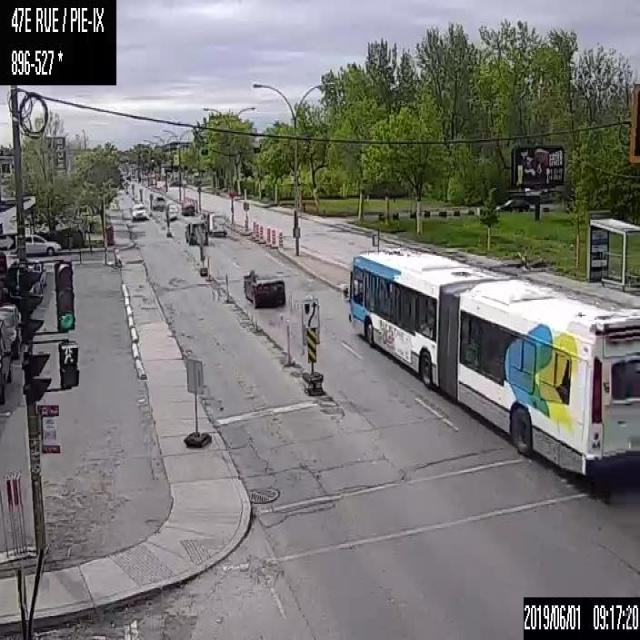bus: (341, 244, 639, 479)
construction: (286, 320, 289, 365), (206, 256, 210, 280), (225, 273, 228, 300), (252, 305, 255, 331), (278, 232, 283, 247), (271, 229, 275, 244), (255, 222, 258, 238), (259, 226, 263, 238), (252, 220, 255, 236), (266, 227, 269, 242)
vehicle: (1, 265, 41, 311), (242, 264, 284, 307), (9, 231, 60, 256), (0, 302, 22, 358), (0, 321, 13, 403), (22, 258, 46, 286), (185, 218, 209, 244), (202, 209, 226, 235), (495, 196, 530, 211), (180, 196, 195, 214), (164, 200, 179, 218), (131, 201, 145, 220), (152, 197, 166, 210)
